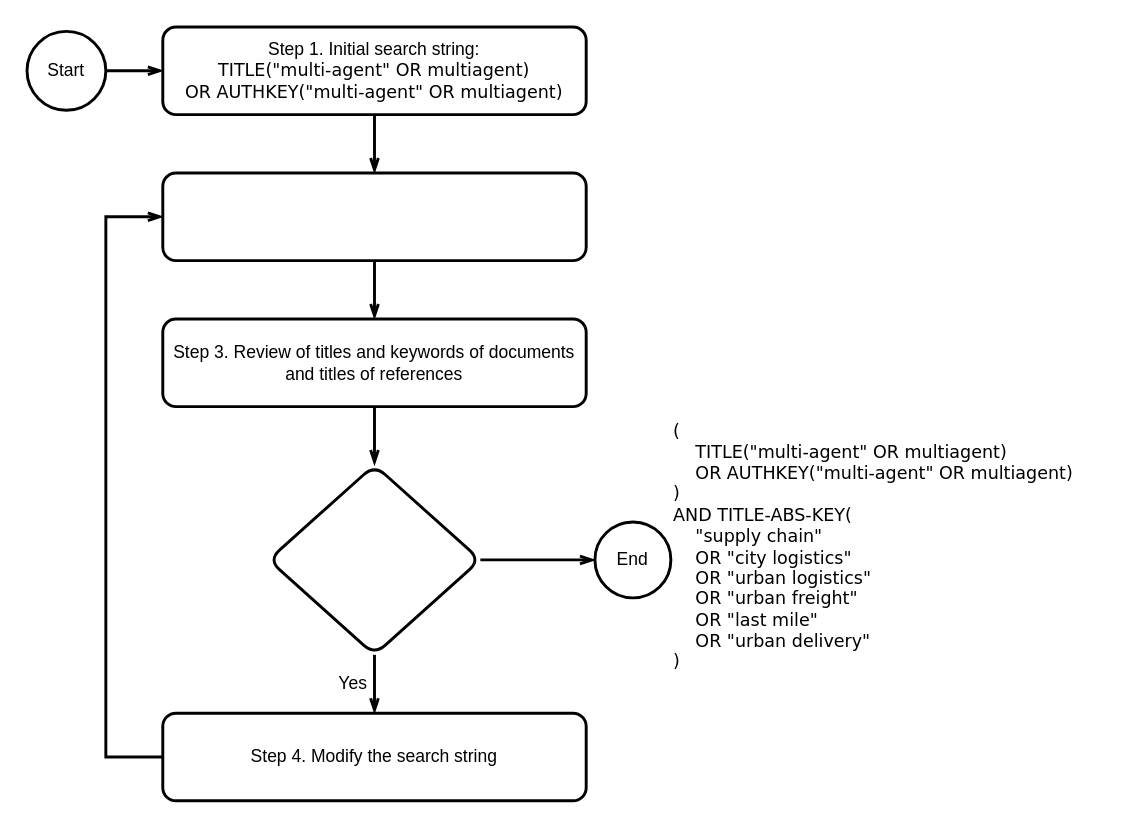
Image size: 1127x826. Some labels were removed from this diagram. The centre of each missing label's shape, as x and y in pixels:
Is a new search term found?: pixel 373 559
Step 2. Search in Scopus and document extraction: pixel 374 216
